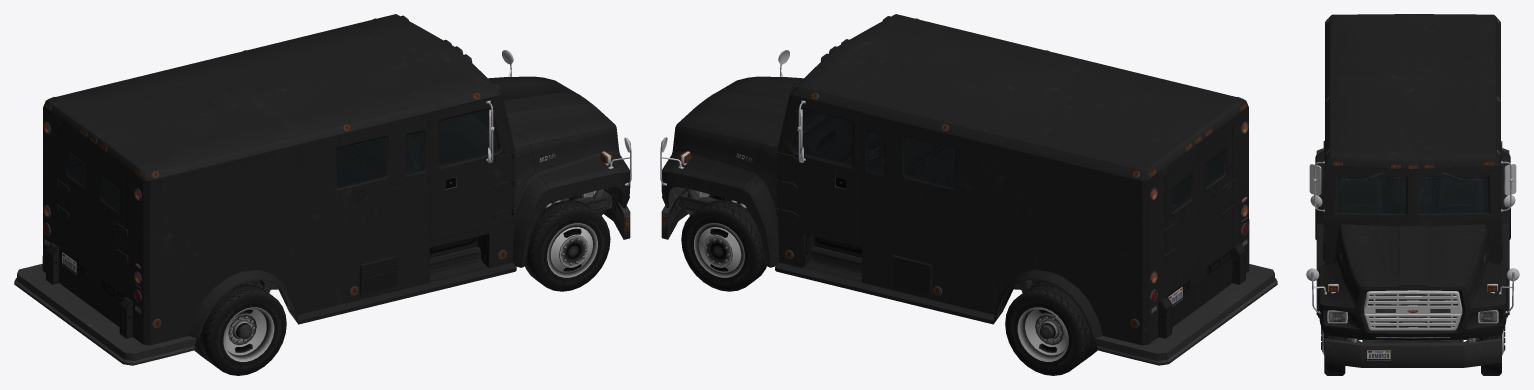
3 renders of one model, left to right at view 1: azimuth 30°, elevation 25°; view 2: azimuth 150°, elevation 25°; view 3: azimuth 270°, elevation 25°, orthographic. The views are drawn at different scales.
Visible parts, largest first — view 1: MD84Armored_Body_MD84Armored_Bodymat_0, MD84Armored_Hood_MD84Armored_Bodymat_0, MD84Armored_WheelStock_RR_RB1c_Tire_1k_0, MD84Armored_WheelStock_FR_RB1c_Tire_1k_0, MD84Armored_Bottom_UCB_BOTTOM_0, MD84Armored_bumper_rear_MD84Armored_Bodymat_0, MD84Armored_Reardoor_Left_MD84Armored_Bodymat_0, MD84Armored_Reardoor_Right_MD84Armored_Bodymat_0, MD84Armored_Glass_Body_UCB_Lights_and_Glass_Transperent_0, MD84Armored_Glass_Passenger_UCB_Lights_and_Glass_Transperent, MD84Armored_Interior_UCB_Interiors_2_0, MD84Armored_Hood_inner_UCB_BOTTOM_0; view 2: MD84Armored_Body_MD84Armored_Bodymat_0, MD84Armored_Hood_MD84Armored_Bodymat_0, MD84Armored_WheelStock_RL_RB1c_Tire_1k_0, MD84Armored_WheelStock_FL_RB1c_Tire_1k_0, MD84Armored_Bottom_UCB_BOTTOM_0, MD84Armored_bumper_rear_MD84Armored_Bodymat_0, MD84Armored_Reardoor_Right_MD84Armored_Bodymat_0, MD84Armored_Reardoor_Left_MD84Armored_Bodymat_0, MD84Armored_Glass_Body_UCB_Lights_and_Glass_Transperent_0, MD84Armored_Glass_Driver_UCB_Lights_and_Glass_Transperent_0, MD84Armored_Interior_UCB_Interiors_2_0, MD84Armored_Hood_inner_UCB_BOTTOM_0; view 3: MD84Armored_Body_MD84Armored_Bodymat_0, MD84Armored_Hood_MD84Armored_Bodymat_0, MD84Armored_Windshield_UCB_Lights_and_Glass_Transperent_0, MD84Armored_Bottom_UCB_BOTTOM_0, MD84Armored_Hood_inner_UCB_BOTTOM_0, MD84Armored_bumper_front_MD84Armored_Bodymat_0, MD84Armored_Interior_UCB_Interiors_2_0, MD84Armored_WheelStock_FL_RB1c_Tire_1k_0, MD84Armored_Headlights_Glass_UCB_Lights_and_Glass_Transperen, MD84Armored_WheelStock_FR_RB1c_Tire_1k_0, MD84Armored_Headlights_UCB_Lights_and_Glass_0, MD84Armored_Numberplate_Front_Numberplates_Misk_U_0.
Boxes of the visible parts, left/top/right/bottom form: MD84Armored_Body_MD84Armored_Bodymat_0: left=42, top=14, right=551, bottom=345; MD84Armored_Hood_MD84Armored_Bodymat_0: left=488, top=76, right=630, bottom=208; MD84Armored_WheelStock_RR_RB1c_Tire_1k_0: left=194, top=281, right=286, bottom=375; MD84Armored_WheelStock_FR_RB1c_Tire_1k_0: left=525, top=200, right=610, bottom=291; MD84Armored_Bottom_UCB_BOTTOM_0: left=43, top=15, right=612, bottom=328; MD84Armored_bumper_rear_MD84Armored_Bodymat_0: left=14, top=264, right=197, bottom=365; MD84Armored_Reardoor_Left_MD84Armored_Bodymat_0: left=59, top=126, right=92, bottom=271; MD84Armored_Reardoor_Right_MD84Armored_Bodymat_0: left=93, top=150, right=126, bottom=296; MD84Armored_Glass_Body_UCB_Lights_and_Glass_Transperent_0: left=336, top=131, right=424, bottom=188; MD84Armored_Glass_Passenger_UCB_Lights_and_Glass_Transperent: left=439, top=109, right=498, bottom=165; MD84Armored_Interior_UCB_Interiors_2_0: left=407, top=115, right=496, bottom=172; MD84Armored_Hood_inner_UCB_BOTTOM_0: left=502, top=50, right=631, bottom=208; MD84Armored_Body_MD84Armored_Bodymat_0: left=740, top=14, right=1249, bottom=345; MD84Armored_Hood_MD84Armored_Bodymat_0: left=661, top=76, right=803, bottom=207; MD84Armored_WheelStock_RL_RB1c_Tire_1k_0: left=1005, top=281, right=1097, bottom=375; MD84Armored_WheelStock_FL_RB1c_Tire_1k_0: left=681, top=200, right=766, bottom=291; MD84Armored_Bottom_UCB_BOTTOM_0: left=679, top=16, right=1248, bottom=328; MD84Armored_bumper_rear_MD84Armored_Bodymat_0: left=1094, top=264, right=1277, bottom=365; MD84Armored_Reardoor_Right_MD84Armored_Bodymat_0: left=1199, top=126, right=1233, bottom=271; MD84Armored_Reardoor_Left_MD84Armored_Bodymat_0: left=1165, top=150, right=1198, bottom=296; MD84Armored_Glass_Body_UCB_Lights_and_Glass_Transperent_0: left=868, top=131, right=955, bottom=188; MD84Armored_Glass_Driver_UCB_Lights_and_Glass_Transperent_0: left=793, top=109, right=852, bottom=165; MD84Armored_Interior_UCB_Interiors_2_0: left=795, top=116, right=884, bottom=172; MD84Armored_Hood_inner_UCB_BOTTOM_0: left=660, top=50, right=789, bottom=208; MD84Armored_Body_MD84Armored_Bodymat_0: left=1315, top=14, right=1510, bottom=315; MD84Armored_Hood_MD84Armored_Bodymat_0: left=1318, top=233, right=1507, bottom=340; MD84Armored_Windshield_UCB_Lights_and_Glass_Transperent_0: left=1337, top=176, right=1488, bottom=213; MD84Armored_Bottom_UCB_BOTTOM_0: left=1309, top=18, right=1516, bottom=342; MD84Armored_Hood_inner_UCB_BOTTOM_0: left=1306, top=268, right=1519, bottom=338; MD84Armored_bumper_front_MD84Armored_Bodymat_0: left=1324, top=338, right=1501, bottom=367; MD84Armored_Interior_UCB_Interiors_2_0: left=1338, top=177, right=1484, bottom=212; MD84Armored_WheelStock_FL_RB1c_Tire_1k_0: left=1481, top=326, right=1505, bottom=375; MD84Armored_Headlights_Glass_UCB_Lights_and_Glass_Transperen: left=1328, top=311, right=1497, bottom=322; MD84Armored_WheelStock_FR_RB1c_Tire_1k_0: left=1321, top=326, right=1345, bottom=375; MD84Armored_Headlights_UCB_Lights_and_Glass_0: left=1329, top=312, right=1496, bottom=321; MD84Armored_Numberplate_Front_Numberplates_Misk_U_0: left=1367, top=350, right=1390, bottom=360.
Bounding box in the file's own units: 6.34 × 2.58 × 2.69.
8 materials, 8 textured.
